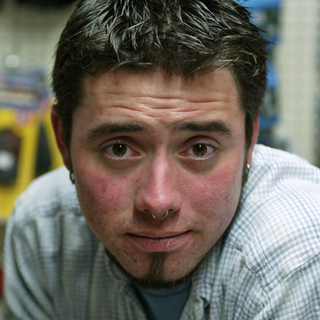eye: (169, 134, 225, 165), (93, 136, 146, 166)
